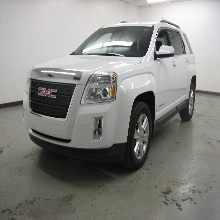no damage: (23, 23, 195, 168)
